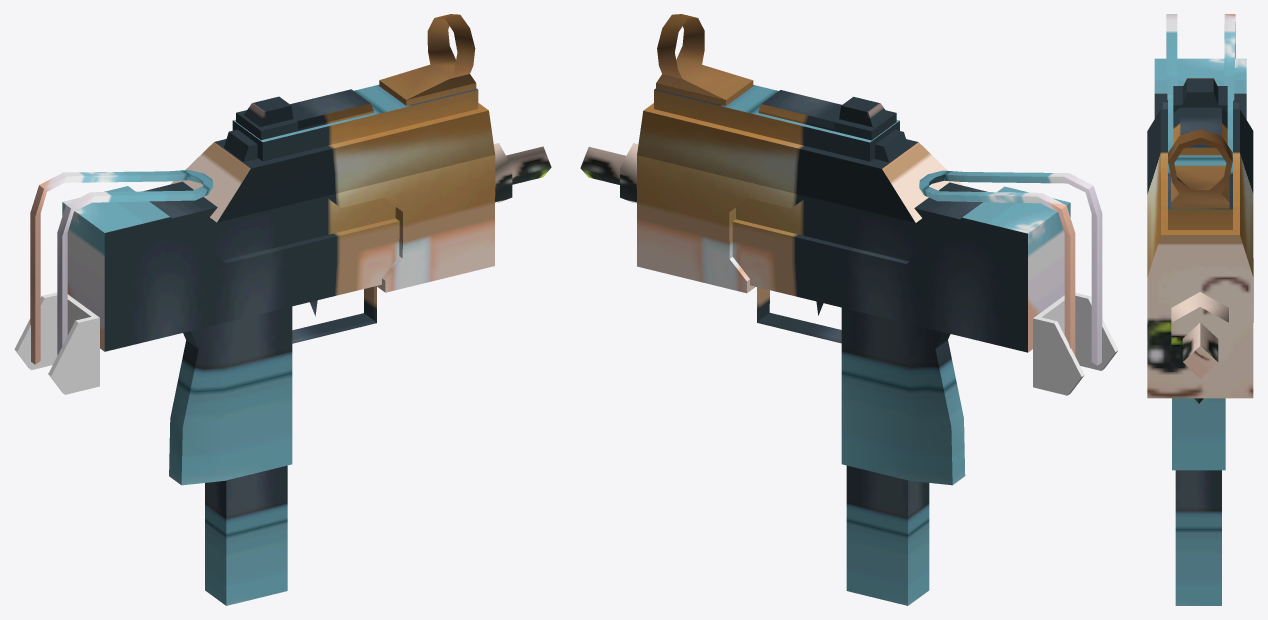
File: view.ico.obj
3 renders of one model, left to right at view 1: azimuth 30°, elevation 25°; view 2: azimuth 150°, elevation 25°; view 3: azimuth 270°, elevation 25°, orthographic. The views are drawn at different scales.
Size of the model in its own units: 5 by 4.89 by 0.8315.
